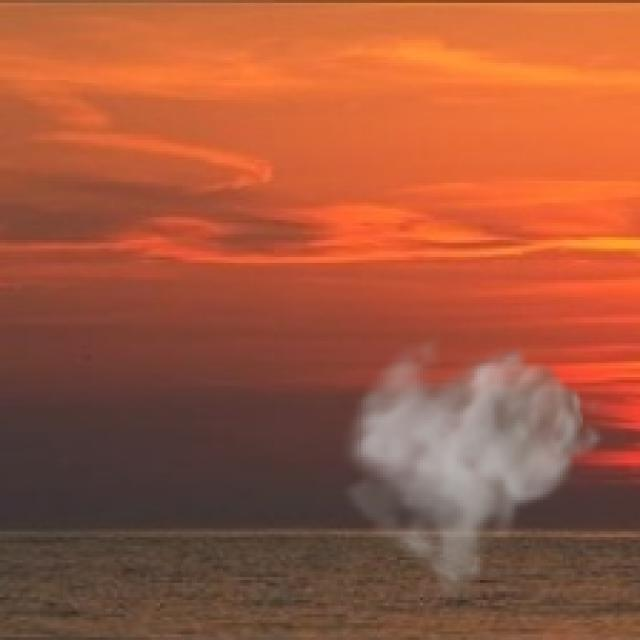smoke: (337, 323, 606, 606)
